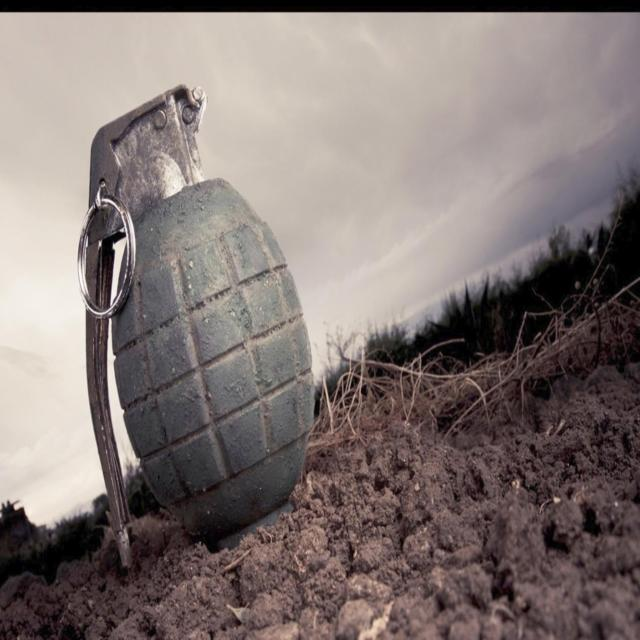grenade: (78, 85, 316, 565)
